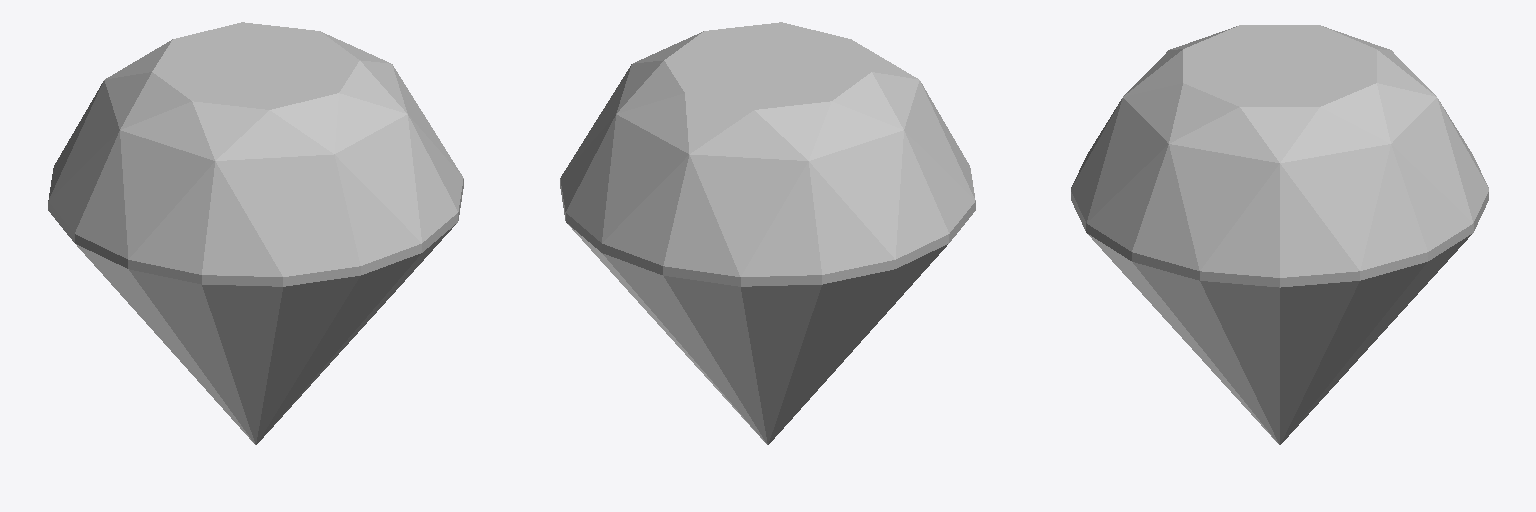
File: gem.obj
3 views of the same model, side by side, from view 1: azimuth 30°, elevation 25°; view 2: azimuth 150°, elevation 25°; view 3: azimuth 270°, elevation 25° (orthographic).
Visible parts, largest first — view 1: gem.obj; view 2: gem.obj; view 3: gem.obj.
Boxes of the visible parts, x1=… form: gem.obj: x1=48, y1=22, x2=463, y2=444; gem.obj: x1=560, y1=22, x2=975, y2=444; gem.obj: x1=1071, y1=25, x2=1488, y2=444.
Bounding box in the file's own units: 4.86 × 4.86 × 4.86.